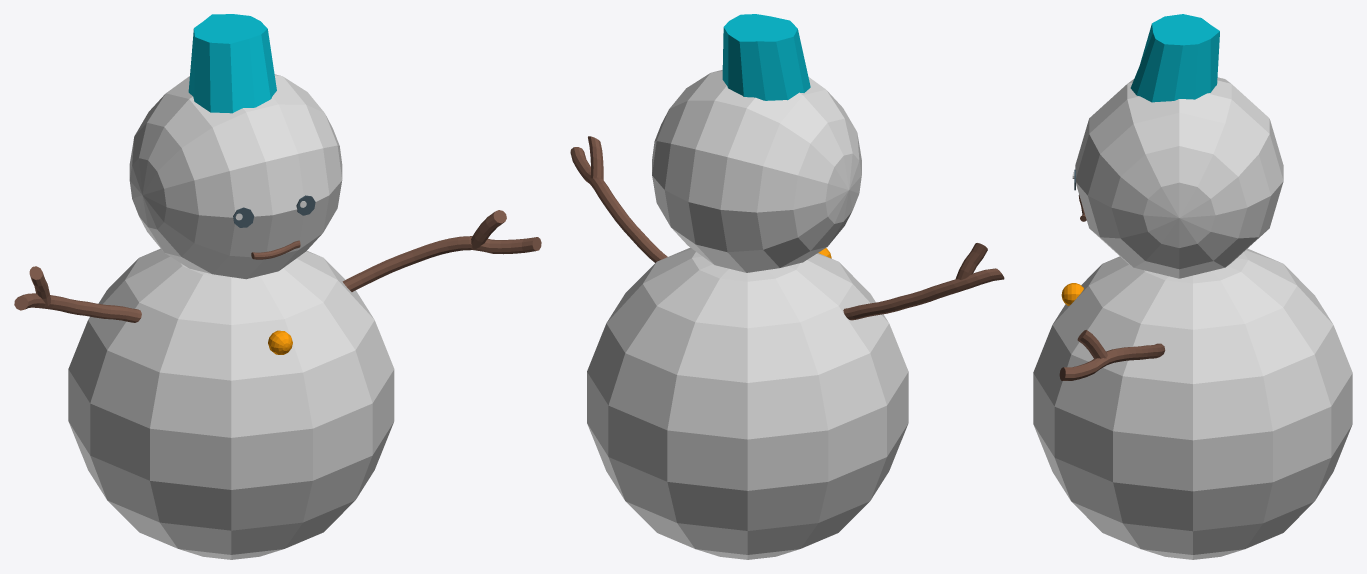
File: Snow Man.glb
The picture shows the model from 3 angles, left to right: view 1: azimuth 30°, elevation 25°; view 2: azimuth 150°, elevation 25°; view 3: azimuth 270°, elevation 25°; orthographic projection. The views are drawn at different scales.
Parts seen in each view (by area): view 1: group702634908, group75044735, group1772080122, group2057951367, group1722299958, group514431928; view 2: group702634908, group75044735, group1772080122, group1722299958, group2057951367, group1005591692, group514431928; view 3: group702634908, group75044735, group1772080122, group2057951367, group514431928.
Part boxes in pixels (x1=…): group702634908: x1=68, y1=248, x2=394, y2=559; group75044735: x1=129, y1=74, x2=342, y2=279; group1772080122: x1=188, y1=14, x2=276, y2=113; group2057951367: x1=342, y1=236, x2=541, y2=291; group1722299958: x1=14, y1=293, x2=141, y2=322; group514431928: x1=471, y1=210, x2=506, y2=248; group702634908: x1=587, y1=247, x2=908, y2=559; group75044735: x1=652, y1=70, x2=861, y2=272; group1772080122: x1=722, y1=14, x2=810, y2=100; group1722299958: x1=843, y1=268, x2=1004, y2=320; group2057951367: x1=570, y1=147, x2=667, y2=262; group1005591692: x1=955, y1=243, x2=987, y2=279; group514431928: x1=588, y1=136, x2=603, y2=179; group702634908: x1=1033, y1=248, x2=1352, y2=559; group75044735: x1=1075, y1=77, x2=1283, y2=278; group1772080122: x1=1130, y1=14, x2=1219, y2=102; group2057951367: x1=1059, y1=343, x2=1165, y2=380; group514431928: x1=1077, y1=330, x2=1107, y2=358.
Size of the model in its own units: 1.55 by 1.6 by 0.906.
